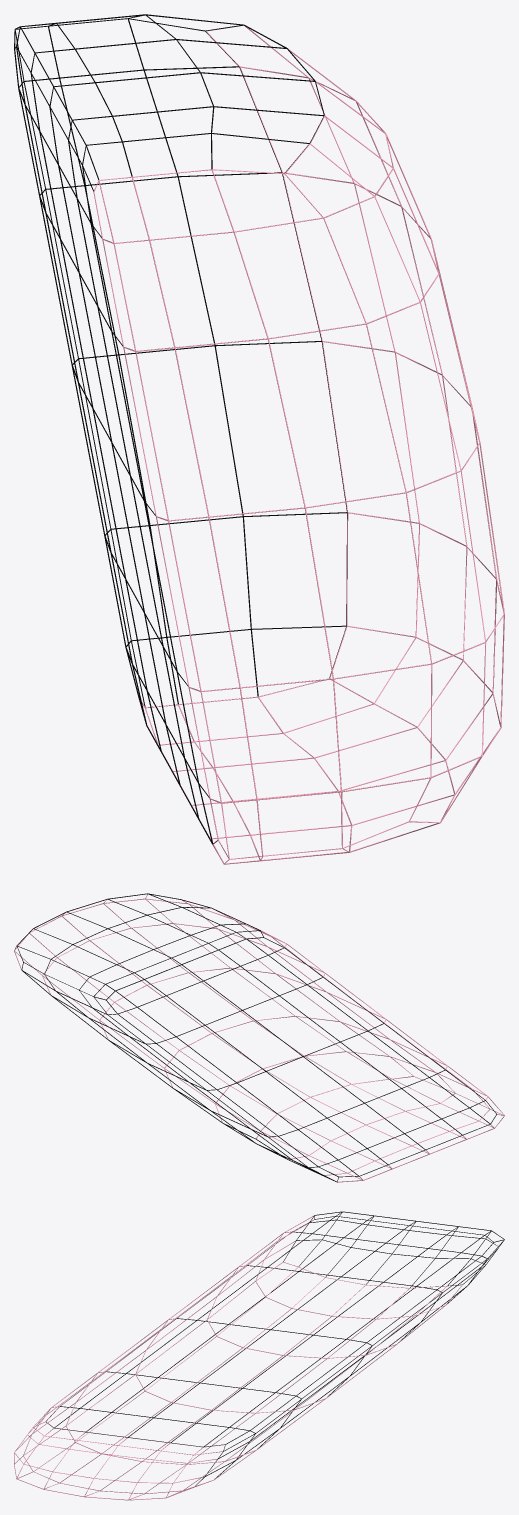
3 renders of one model, top to bottom at view 1: azimuth 30°, elevation 25°; view 2: azimuth 150°, elevation 25°; view 3: azimuth 270°, elevation 25°, orthographic. The views are drawn at different scales.
Visible parts, largest first — view 1: Box1213; view 2: Box1213; view 3: Box1213.
Part boxes in pixels (x1,y1,x2,y2): Box1213: (14,14,504,864); Box1213: (14,893,504,1182); Box1213: (14,1211,504,1500).
Bounding box in the file's own units: 0.0345 × 0.0358 × 0.0609.
